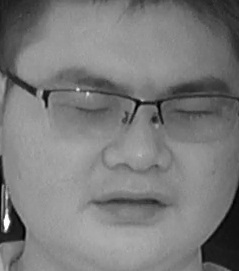blink: (169, 106, 212, 123), (74, 101, 107, 119)
glass: (46, 86, 136, 139), (157, 92, 238, 143)
mouth: (87, 188, 167, 224)
